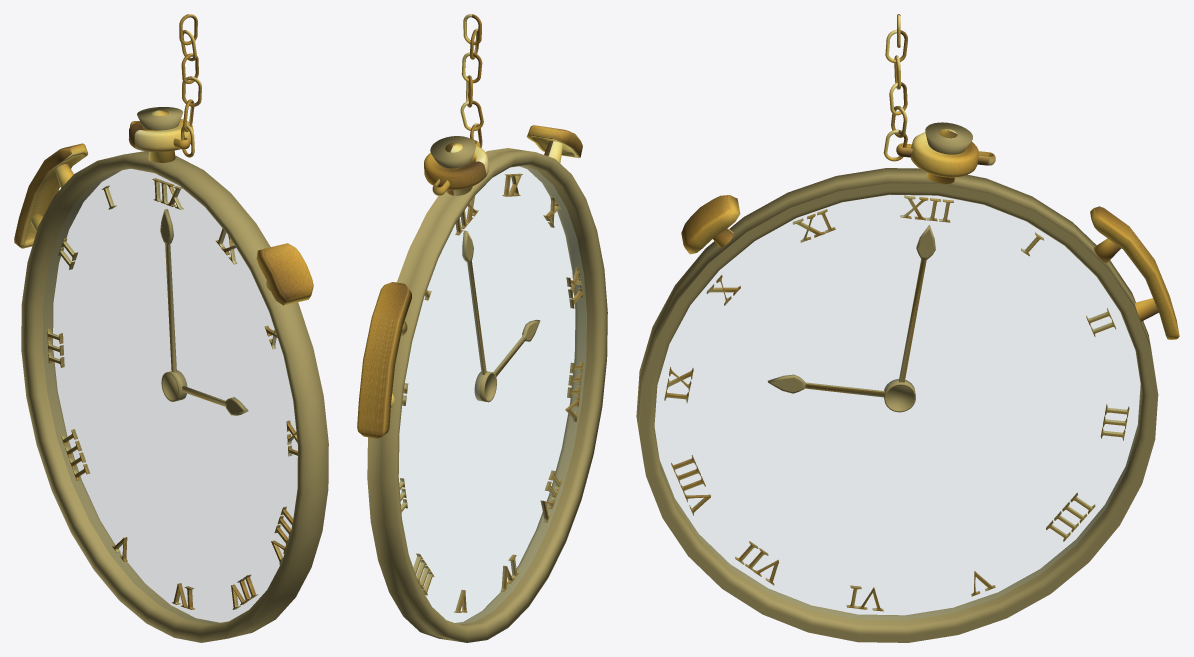
File: O Localizador.glb
3 renders of one model, left to right at view 1: azimuth 30°, elevation 25°; view 2: azimuth 150°, elevation 25°; view 3: azimuth 270°, elevation 25°, orthographic. The views are drawn at different scales.
Parts seen in each view (by area): view 1: Circle.002; view 2: Circle.002; view 3: Circle.002.
Part boxes in pixels (x1,y1,x2,y2): Circle.002: [14, 107, 328, 642]; Circle.002: [357, 125, 607, 642]; Circle.002: [636, 122, 1179, 642].
Size of the model in its own units: 2.13 by 16.39 by 12.72.
Materials: 3 (2 with a texture image).
